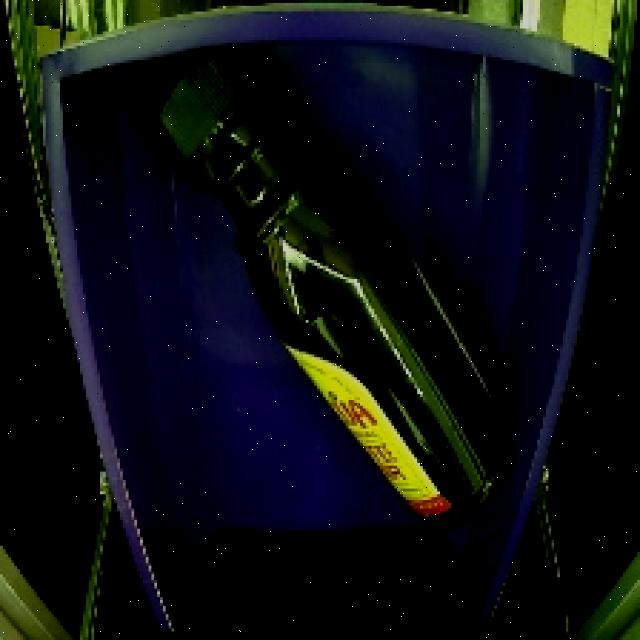plastic: (141, 34, 532, 543)
